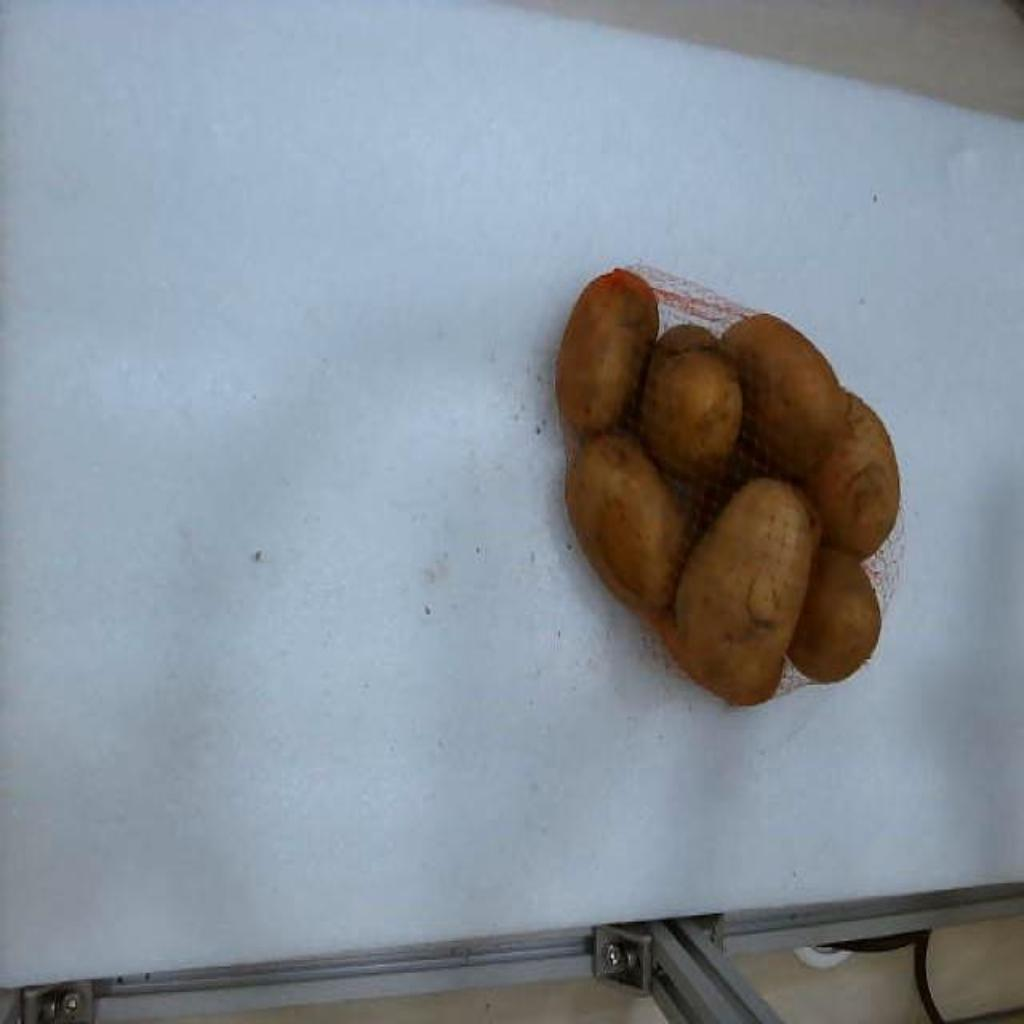potato: (676, 477, 816, 704), (566, 432, 688, 616), (720, 315, 846, 477), (558, 269, 658, 436), (804, 392, 900, 556), (640, 331, 740, 479), (788, 547, 882, 681)
